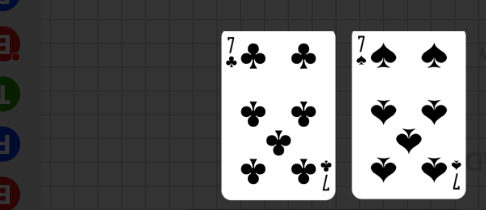7C: (223, 35, 238, 69)
7S: (354, 34, 368, 67)
